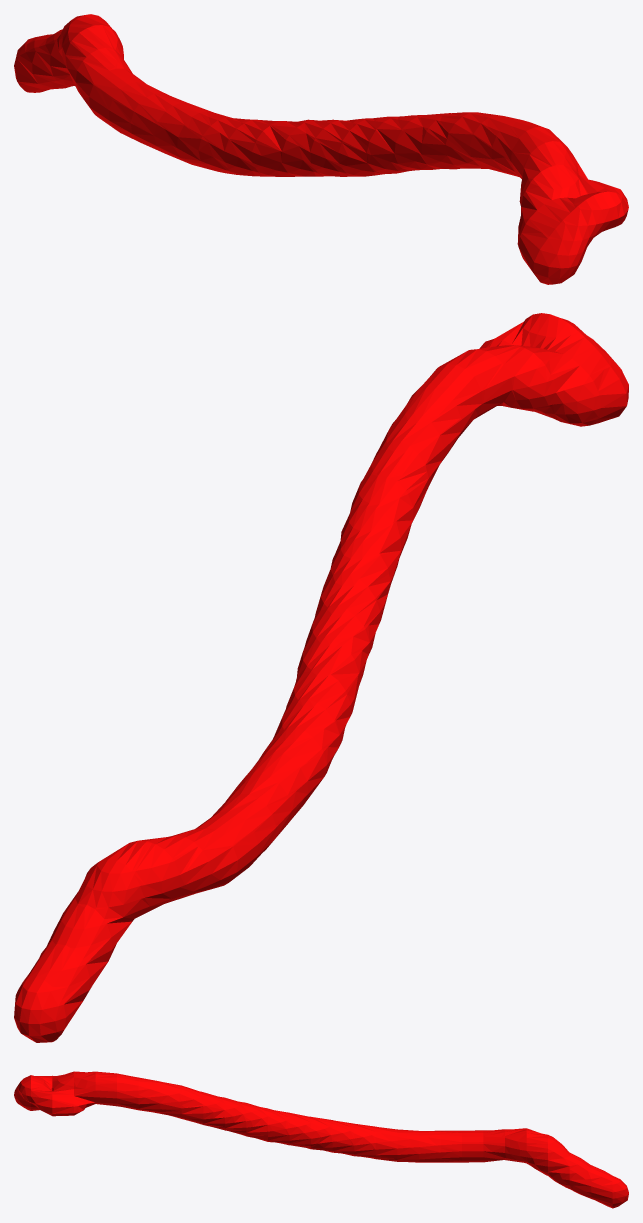
File: atpF_coarse.dae
The picture shows the model from 3 angles, top to bottom: view 1: azimuth 30°, elevation 25°; view 2: azimuth 150°, elevation 25°; view 3: azimuth 270°, elevation 25°; orthographic projection. The views are drawn at different scales.
Parts seen in each view (by area): view 1: atpF; view 2: atpF; view 3: atpF.
Boxes of the visible parts, x1,y1,x2,y2 form: atpF: (14,14,628,284); atpF: (14,313,628,1042); atpF: (14,1071,628,1208).
Size of the model in its own units: 35.8 by 55.15 by 202.
